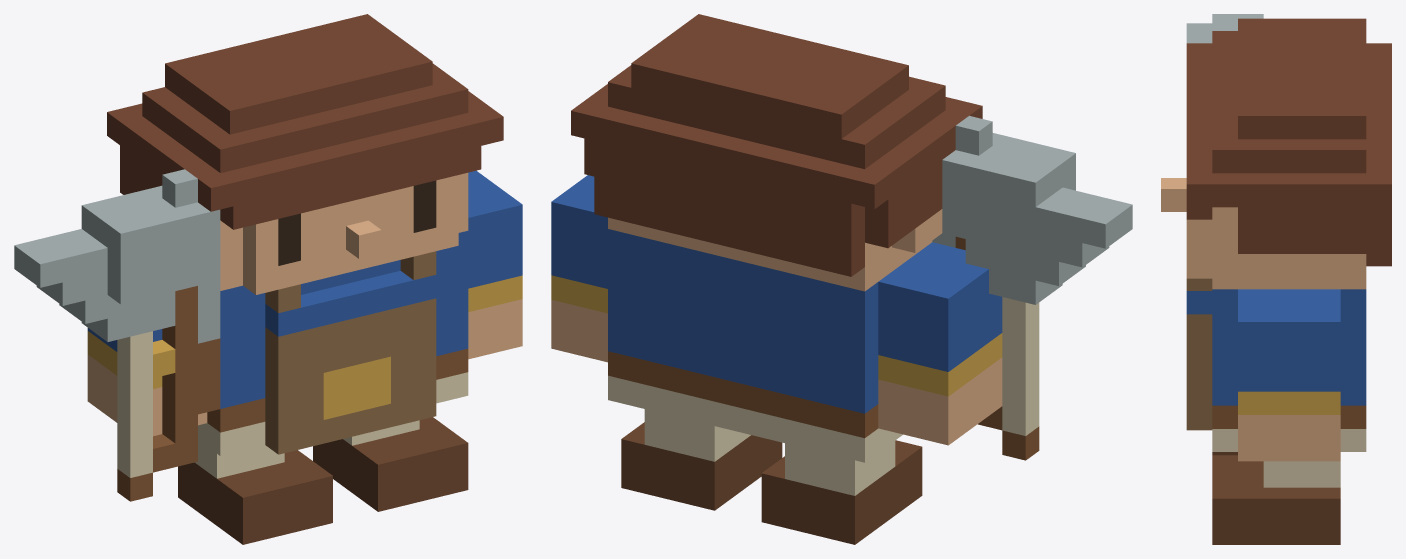
Rendered from tripo-test-tools-v1.glb.
3 views of the same model, side by side, from view 1: azimuth 30°, elevation 25°; view 2: azimuth 150°, elevation 25°; view 3: azimuth 270°, elevation 25° (orthographic). The views are drawn at different scales.
Parts seen in each view (by area): view 1: hair-crop-surface, body-surface, outfit-apron-surface, head-surface, rightLeg-surface, tool-hammer-surface, tool-axe-surface, leftLeg-surface, leftArm-surface, tool-bow-surface, tool-sword-surface, tool-pickaxe-surface (+1 smaller); view 2: hair-crop-surface, body-surface, rightArm-surface, rightLeg-surface, leftLeg-surface, tool-axe-surface, leftArm-surface, tool-hammer-surface, tool-bow-surface, head-surface, tool-pickaxe-surface, tool-sword-surface; view 3: hair-crop-surface, leftArm-surface, leftLeg-surface, body-surface, head-surface, outfit-apron-surface, tool-hammer-surface, tool-pickaxe-surface.
Part boxes in pixels (x1=…): hair-crop-surface: x1=107, y1=14, x2=503, y2=229; body-surface: x1=198, y1=231, x2=468, y2=455; outfit-apron-surface: x1=265, y1=251, x2=436, y2=454; head-surface: x1=220, y1=172, x2=468, y2=294; rightLeg-surface: x1=178, y1=440, x2=332, y2=544; tool-hammer-surface: x1=81, y1=185, x2=210, y2=304; tool-axe-surface: x1=59, y1=229, x2=197, y2=466; leftLeg-surface: x1=313, y1=417, x2=468, y2=511; leftArm-surface: x1=468, y1=170, x2=522, y2=359; tool-bow-surface: x1=117, y1=331, x2=220, y2=501; tool-sword-surface: x1=153, y1=169, x2=220, y2=378; tool-pickaxe-surface: x1=14, y1=234, x2=85, y2=305; hair-crop-surface: x1=571, y1=14, x2=982, y2=276; body-surface: x1=608, y1=229, x2=902, y2=462; rightArm-surface: x1=878, y1=242, x2=1002, y2=445; rightLeg-surface: x1=761, y1=440, x2=922, y2=544; leftLeg-surface: x1=621, y1=409, x2=782, y2=510; tool-axe-surface: x1=955, y1=187, x2=1085, y2=424; leftArm-surface: x1=551, y1=175, x2=607, y2=362; tool-hammer-surface: x1=942, y1=133, x2=1075, y2=238; tool-bow-surface: x1=979, y1=297, x2=1039, y2=460; head-surface: x1=608, y1=209, x2=942, y2=291; tool-pickaxe-surface: x1=1059, y1=193, x2=1132, y2=267; tool-sword-surface: x1=932, y1=115, x2=992, y2=247; hair-crop-surface: x1=1186, y1=18, x2=1391, y2=266; leftArm-surface: x1=1238, y1=289, x2=1340, y2=461; leftLeg-surface: x1=1212, y1=455, x2=1340, y2=544; body-surface: x1=1186, y1=289, x2=1366, y2=451; head-surface: x1=1161, y1=178, x2=1366, y2=289; outfit-apron-surface: x1=1186, y1=278, x2=1212, y2=430; tool-hammer-surface: x1=1186, y1=23, x2=1237, y2=43; tool-pickaxe-surface: x1=1212, y1=14, x2=1263, y2=23.
Bounding box in the file's own units: 1.38 × 1.12 × 0.5625.
